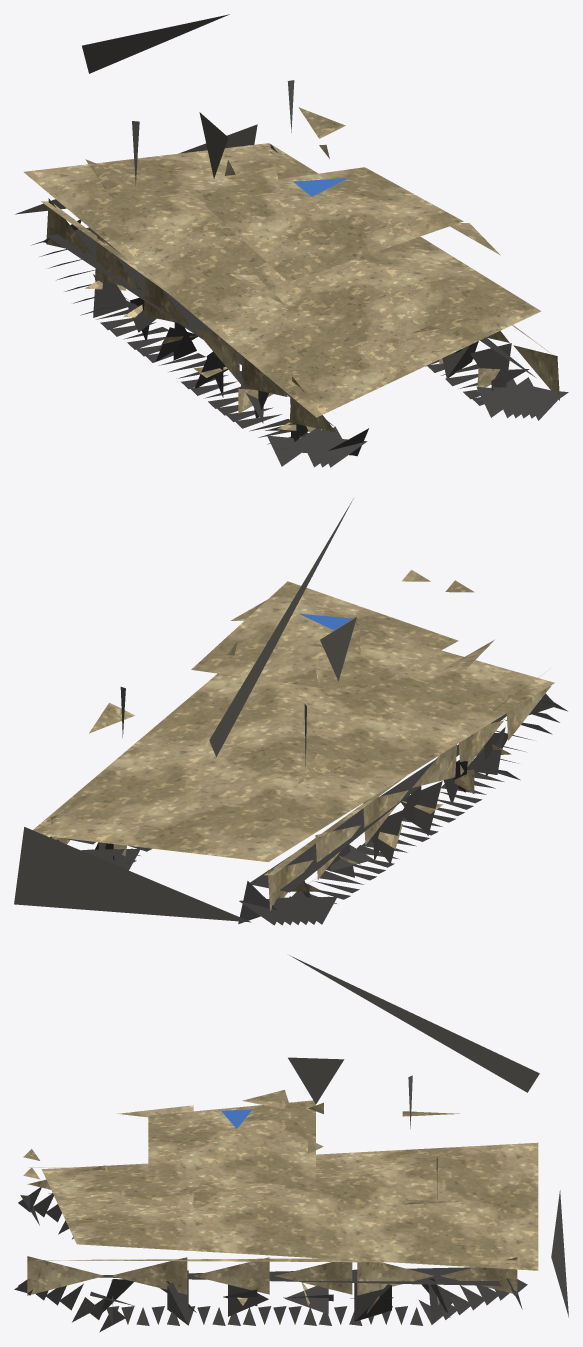
Rendered from eng_e4_us_repair_LOD2.glb.
The picture shows the model from 3 angles, top to bottom: view 1: azimuth 30°, elevation 25°; view 2: azimuth 150°, elevation 25°; view 3: azimuth 270°, elevation 25°; orthographic projection. The views are drawn at different scales.
Parts seen in each view (by area): view 1: eng_e4_us_repair_LOD2_body, eng_e4_us_repair_LOD2_track, eng_e4_us_repair_LOD2_deck; view 2: eng_e4_us_repair_LOD2_body, eng_e4_us_repair_LOD2_deck, eng_e4_us_repair_LOD2_track; view 3: eng_e4_us_repair_LOD2_body, eng_e4_us_repair_LOD2_track, eng_e4_us_repair_LOD2_deck.
Boxes of the visible parts, x1,y1,x2,y2 form: eng_e4_us_repair_LOD2_body: (24,107,559,432); eng_e4_us_repair_LOD2_track: (31,219,568,467); eng_e4_us_repair_LOD2_deck: (15,14,257,214); eng_e4_us_repair_LOD2_body: (33,569,554,911); eng_e4_us_repair_LOD2_deck: (14,498,356,922); eng_e4_us_repair_LOD2_track: (50,693,567,925); eng_e4_us_repair_LOD2_body: (23,1090,538,1313); eng_e4_us_repair_LOD2_track: (14,1187,527,1332); eng_e4_us_repair_LOD2_deck: (288,955,568,1317).
Size of the model in its own units: 3.3 by 4.58 by 7.62.
5 materials, 1 textured.
